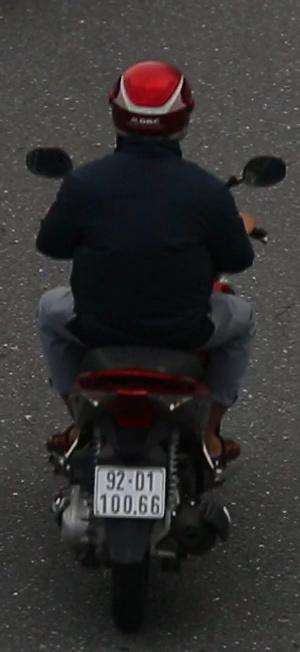LP: (89, 461, 169, 524)
helmet: (109, 53, 197, 151)
